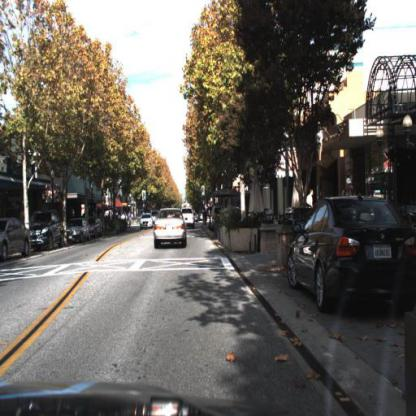car: (287, 194, 416, 313), (154, 206, 189, 251), (1, 216, 31, 265), (30, 210, 65, 250), (69, 217, 94, 248), (67, 216, 94, 243), (140, 209, 154, 232), (181, 207, 196, 227)
pedestrian: (343, 178, 357, 199), (305, 184, 317, 208), (307, 188, 315, 215)
